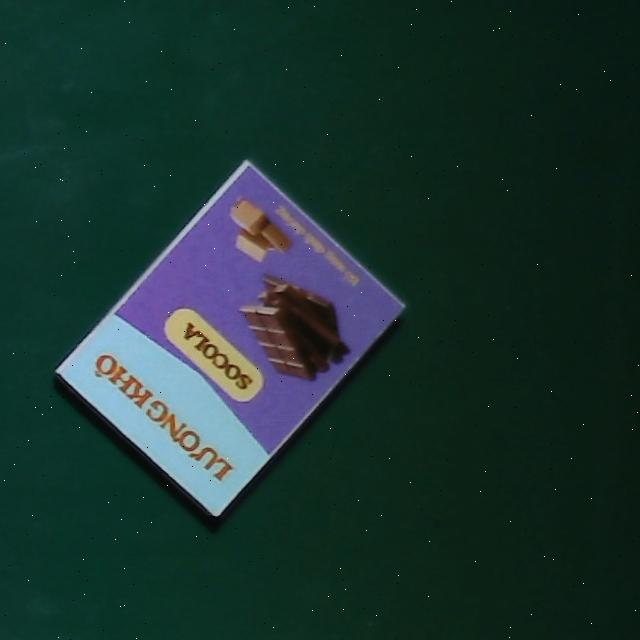socola: (51, 161, 408, 523)
